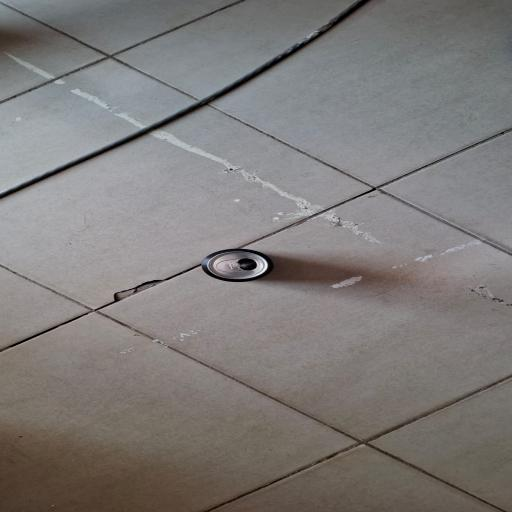LATA: (191, 246, 288, 287)
